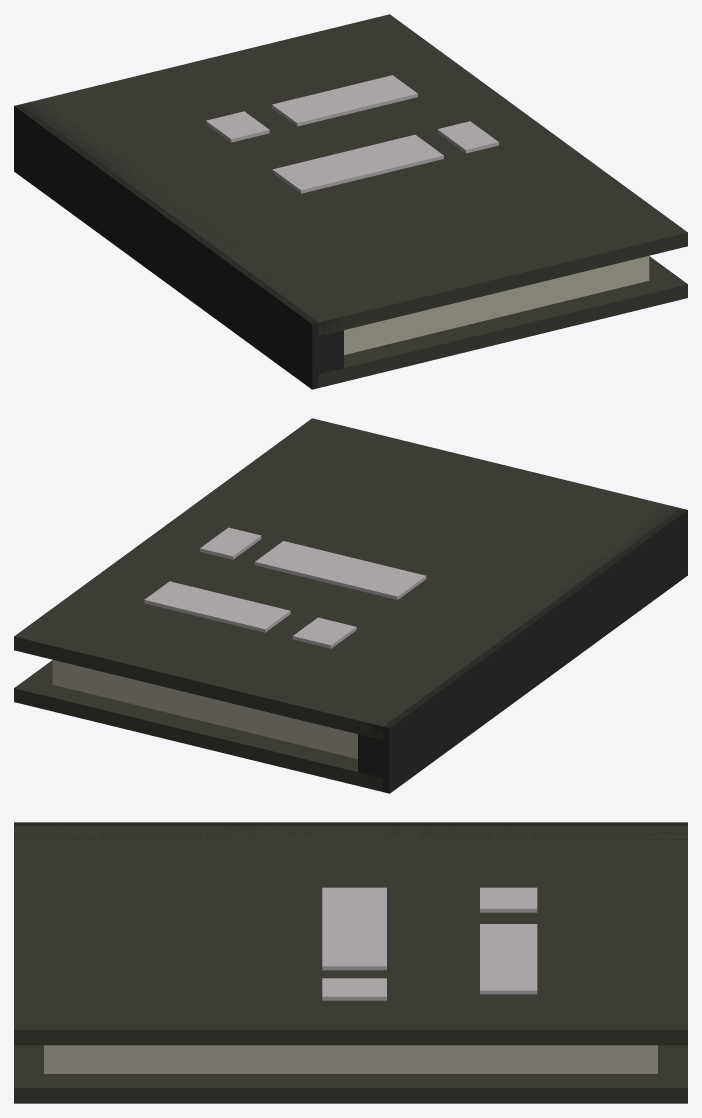
File: CMU3DGuidebook.glb
3 views of the same model, one above another, from view 1: azimuth 30°, elevation 25°; view 2: azimuth 150°, elevation 25°; view 3: azimuth 270°, elevation 25° (orthographic). The views are drawn at different scales.
Visible parts, largest first — view 1: dark hard cover (×2), book spine, cover title marks (×4), book pages; view 2: dark hard cover (×2), book spine, cover title marks (×4), book pages; view 3: dark hard cover (×2), book pages, cover title marks (×4), book spine.
Boxes of the visible parts, bbox=[...] form: dark hard cover (×2): bbox=[22, 14, 687, 387]; book spine: bbox=[14, 100, 343, 389]; cover title marks (×4): bbox=[206, 75, 498, 193]; book pages: bbox=[344, 256, 649, 354]; dark hard cover (×2): bbox=[14, 418, 680, 791]; book spine: bbox=[358, 503, 687, 793]; cover title marks (×4): bbox=[144, 527, 426, 648]; book pages: bbox=[52, 660, 357, 758]; dark hard cover (×2): bbox=[14, 826, 687, 1103]; book pages: bbox=[44, 1045, 657, 1073]; cover title marks (×4): bbox=[322, 887, 537, 1000]; book spine: bbox=[14, 822, 687, 839].
Size of the model in its own units: 0.342 by 0.06 by 0.47.
